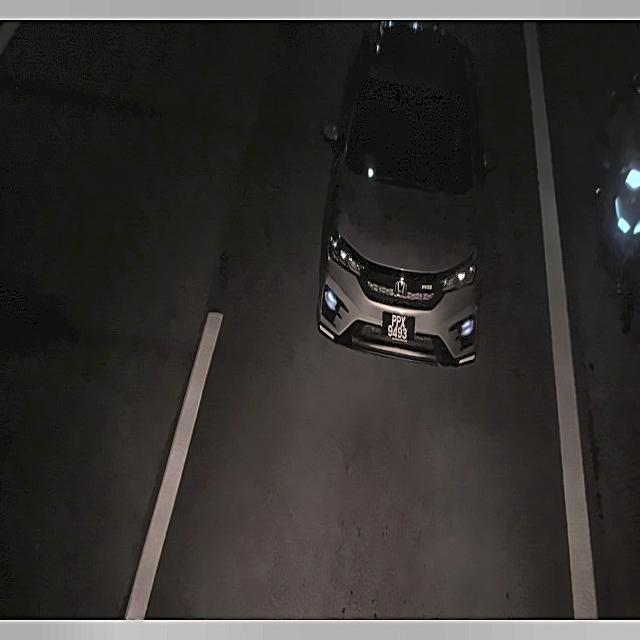car: (376, 305, 420, 350)
